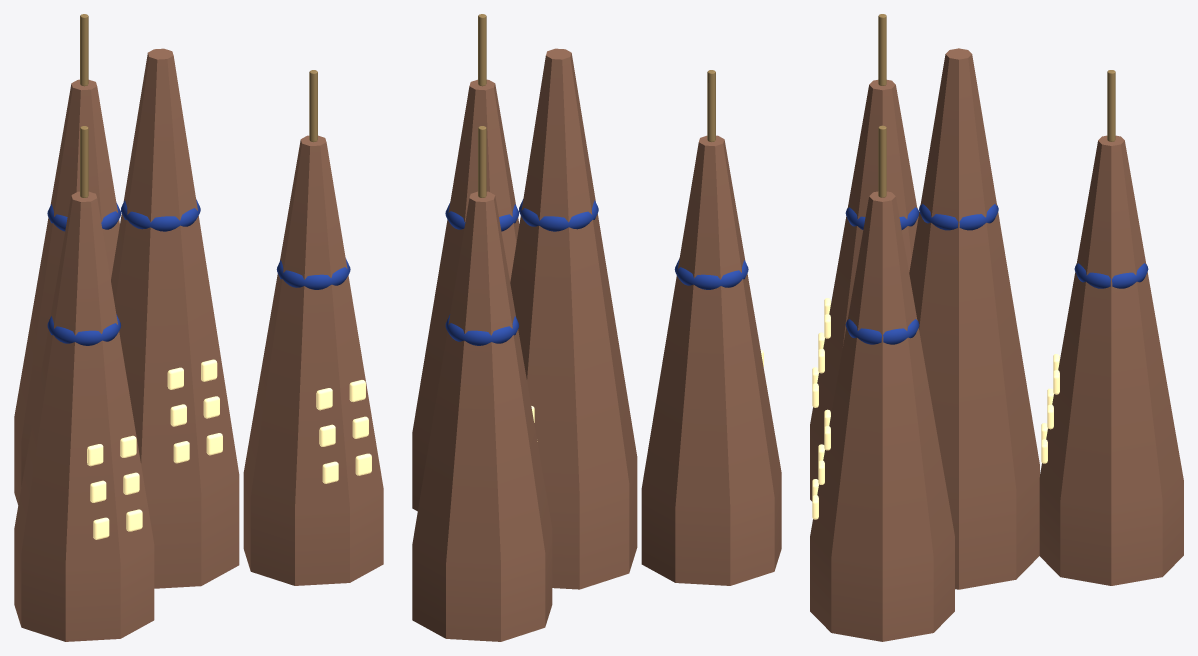
The picture shows the model from 3 angles, left to right: view 1: azimuth 30°, elevation 25°; view 2: azimuth 150°, elevation 25°; view 3: azimuth 270°, elevation 25°; orthographic projection.
Parts seen in each view (by area): view 1: Tapered spire.003, Tapered spire.001, Tapered spire.002, Tapered spire, Spire collar.003, Spire collar.001, Spire collar.002, Aerial stem, Aerial stem.002, Aerial stem.001, Spire collar; view 2: Tapered spire.003, Tapered spire, Tapered spire.001, Tapered spire.002, Spire collar.003, Spire collar.001, Spire collar, Aerial stem.001, Aerial stem.002, Aerial stem, Spire collar.002; view 3: Tapered spire, Tapered spire.003, Tapered spire.002, Tapered spire.001, Spire collar.003, Spire collar.002, Spire collar, Aerial stem.002, Aerial stem, Aerial stem.001.
Boxes of the visible parts, <box> form: Tapered spire.003: <box>111,48,239,588</box>; Tapered spire.001: <box>14,191,154,641</box>; Tapered spire.002: <box>243,135,383,585</box>; Tapered spire: <box>14,79,119,504</box>; Spire collar.003: <box>121,199,200,231</box>; Spire collar.001: <box>47,314,121,345</box>; Spire collar.002: <box>276,258,350,289</box>; Aerial stem: <box>80,14,88,86</box>; Aerial stem.002: <box>309,70,317,142</box>; Aerial stem.001: <box>80,126,88,197</box>; Spire collar: <box>47,202,121,231</box>; Tapered spire.003: <box>510,48,637,589</box>; Tapered spire: <box>412,191,552,641</box>; Tapered spire.001: <box>641,135,781,585</box>; Tapered spire.002: <box>412,79,519,511</box>; Spire collar.003: <box>519,199,598,231</box>; Spire collar.001: <box>674,258,748,289</box>; Spire collar: <box>445,314,519,345</box>; Aerial stem.001: <box>707,70,715,142</box>; Aerial stem.002: <box>478,14,486,86</box>; Aerial stem: <box>478,126,486,197</box>; Spire collar.002: <box>445,202,519,231</box>; Tapered spire: <box>1039,135,1183,585</box>; Tapered spire.003: <box>909,48,1039,589</box>; Tapered spire.002: <box>810,191,954,641</box>; Tapered spire.001: <box>810,80,918,501</box>; Spire collar.003: <box>919,204,998,230</box>; Spire collar.002: <box>845,319,919,344</box>; Spire collar: <box>1074,263,1148,288</box>; Aerial stem.002: <box>878,125,886,197</box>; Aerial stem: <box>1107,70,1115,141</box>; Aerial stem.001: <box>878,14,886,85</box>.
Size of the model in its own units: 2.15 by 2.9 by 1.96.
